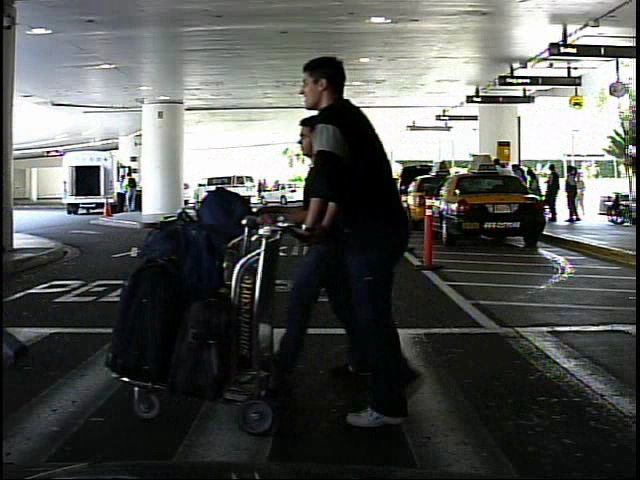person: (297, 48, 478, 427), (304, 112, 365, 385), (576, 172, 596, 218), (114, 172, 130, 214)
